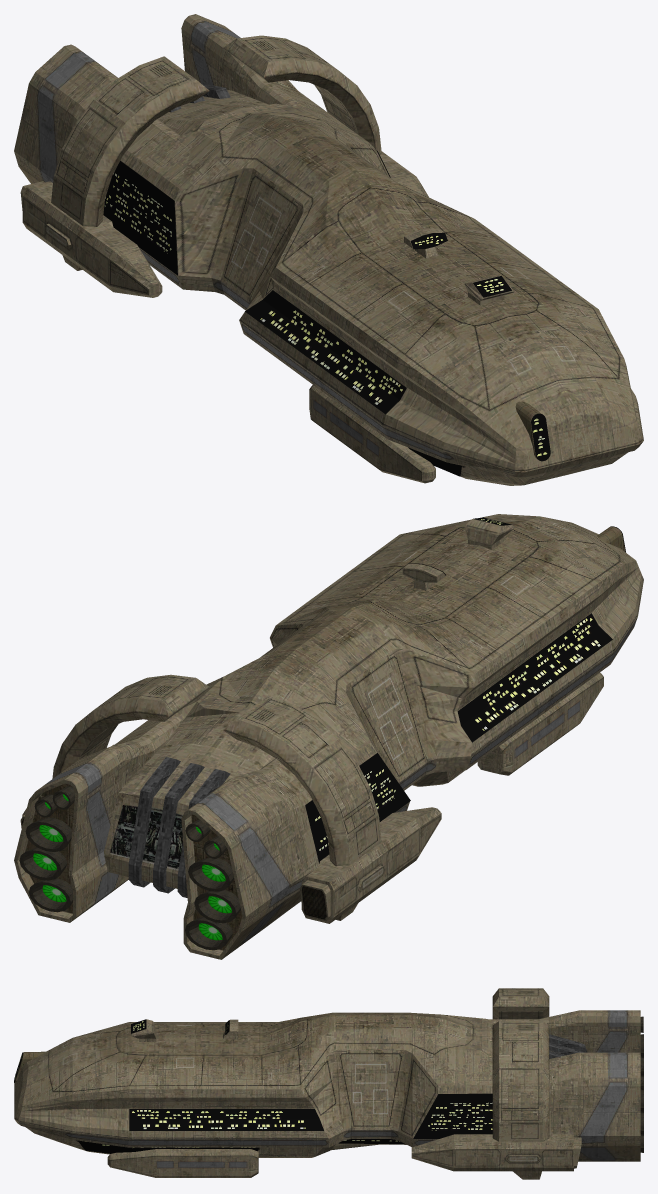
File: Mandalorian_Cruiser1.obj
The picture shows the model from 3 angles, top to bottom: view 1: azimuth 30°, elevation 25°; view 2: azimuth 150°, elevation 25°; view 3: azimuth 270°, elevation 25°; orthographic projection. The views are drawn at different scales.
Visible parts, largest first — view 1: Hull, Lights; view 2: Hull, Lights; view 3: Hull, Lights.
Boxes of the visible parts, x1=… form: Hull: x1=14, y1=14, x2=643, y2=485; Lights: x1=103, y1=150, x2=550, y2=476; Hull: x1=14, y1=514, x2=643, y2=959; Lights: x1=33, y1=517, x2=625, y2=940; Hull: x1=14, y1=988, x2=643, y2=1179; Lights: x1=14, y1=1019, x2=492, y2=1153.
Bounding box in the file's own units: 103 × 61.14 × 257.
